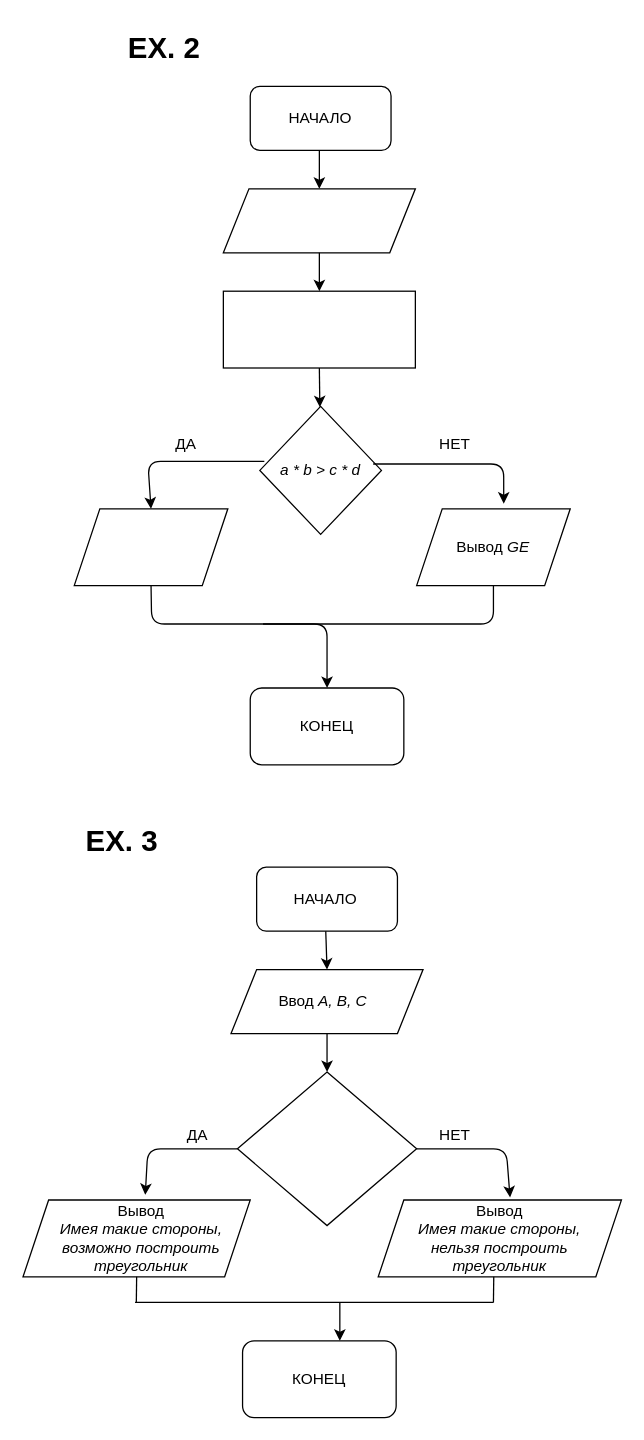
This 644x1440 diagram has some shape labels left out. Each missing label, with the centre of its shape:
(c + b > a) и (b + a > c) и (a + c > b): pixel 326 1148
ar = (a + b + c + d) / 4 ge = (a * b * c * d) ^ 1 / 2: pixel 318 329
Ввод A, B, C, D: pixel 318 220
Вывод AR: pixel 150 547
